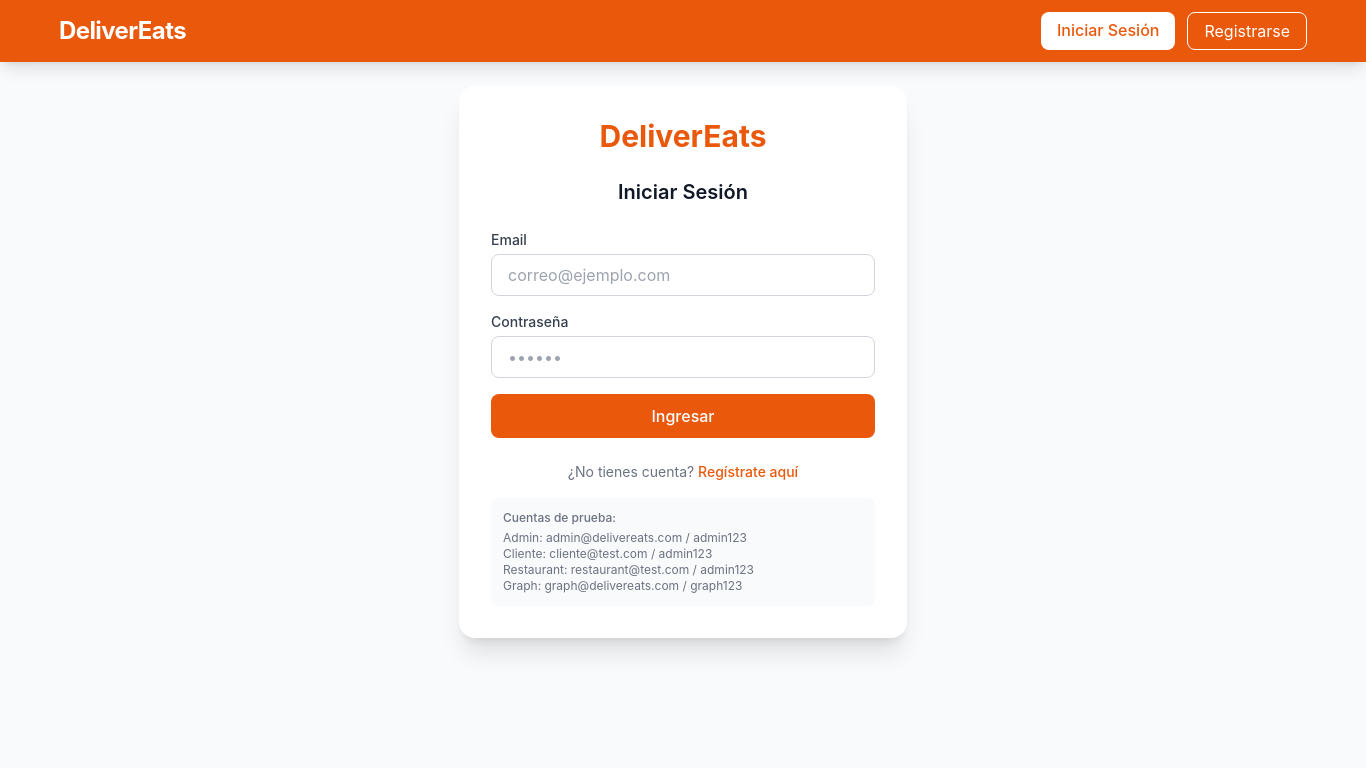
E2E UI - Autenticacion y roles › login admin con redireccion valida
Type "admin@delivereats.com" into the field with placeholder "correo@ejemplo.com" at (683, 275), box x1=491 y1=254 x2=875 y2=296
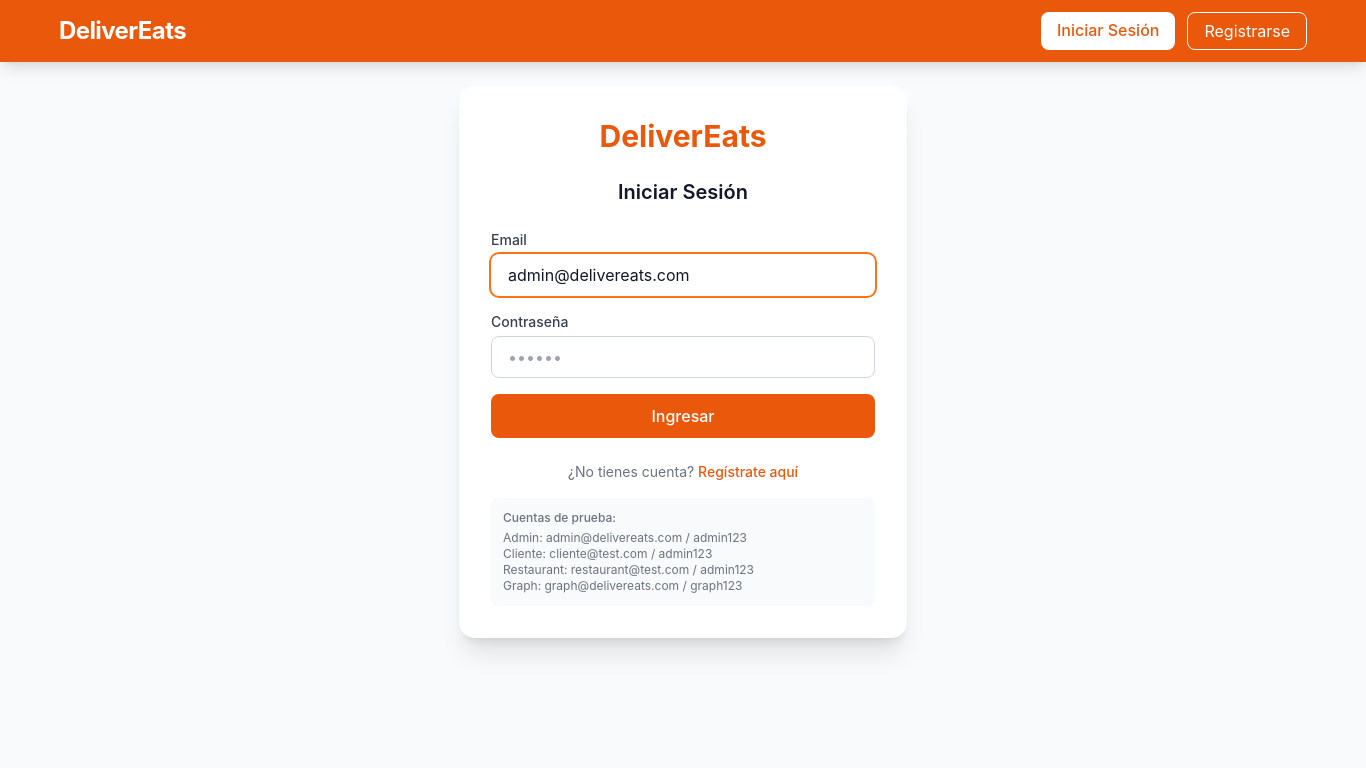
Type "admin123" into the password field with placeholder "••••••" at (683, 357), box x1=491 y1=336 x2=875 y2=378
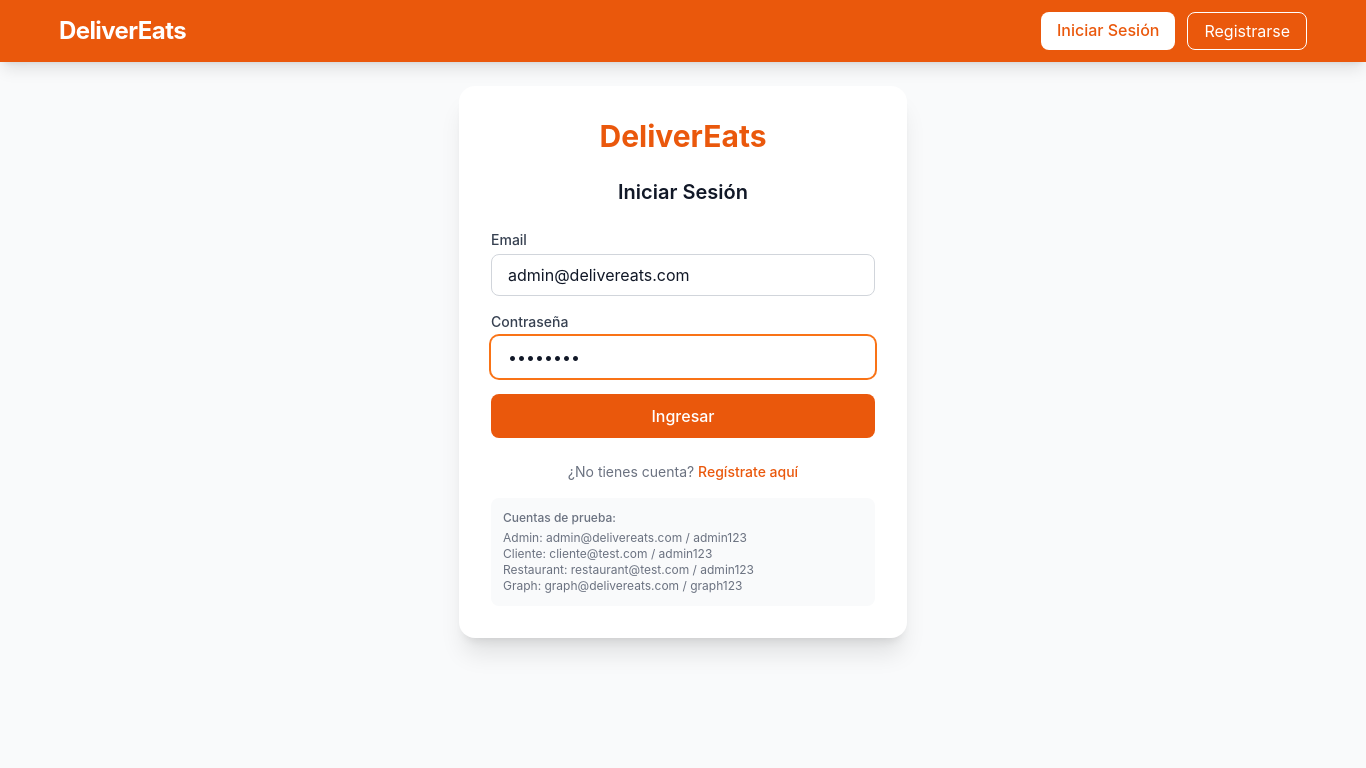
Click the button "Ingresar" at (683, 416), box x1=491 y1=394 x2=875 y2=438
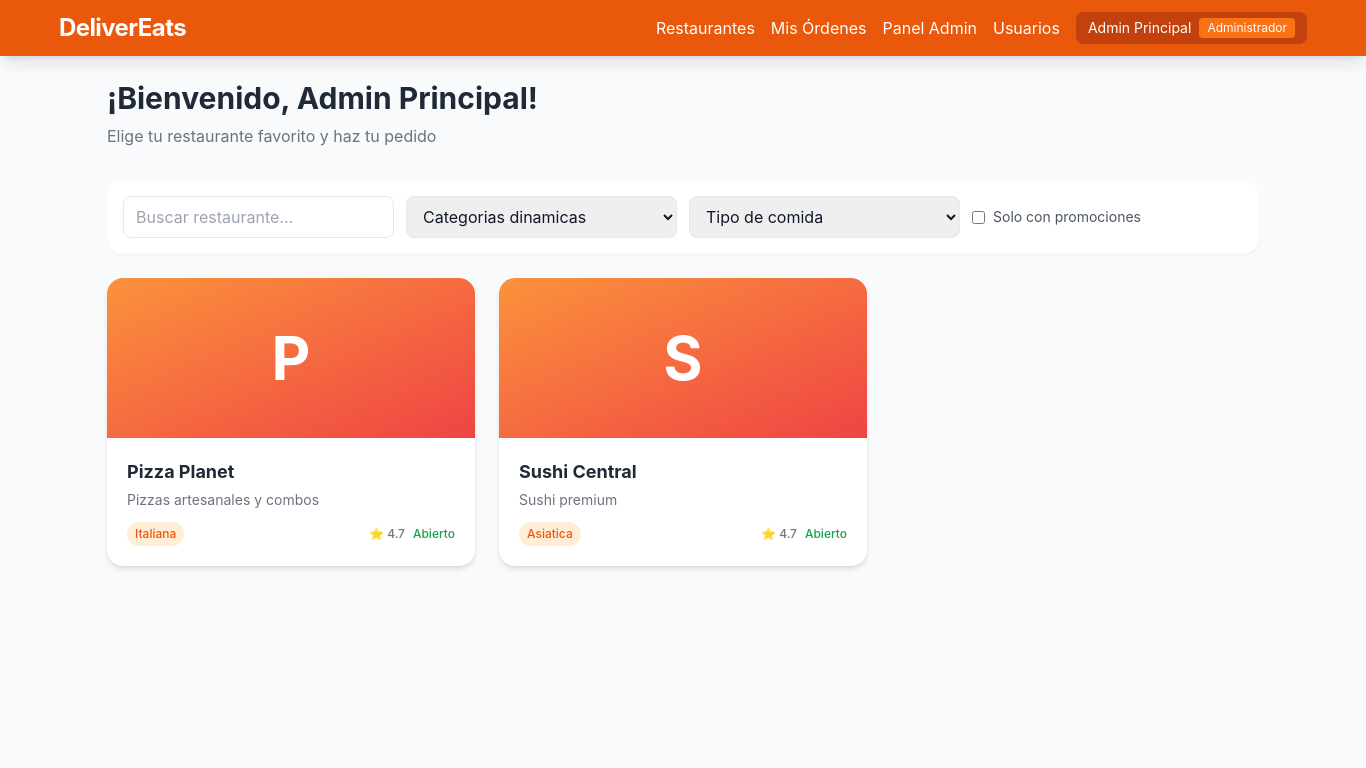
Check: the link "Panel Admin" is shown, box x1=882 y1=16 x2=977 y2=40
